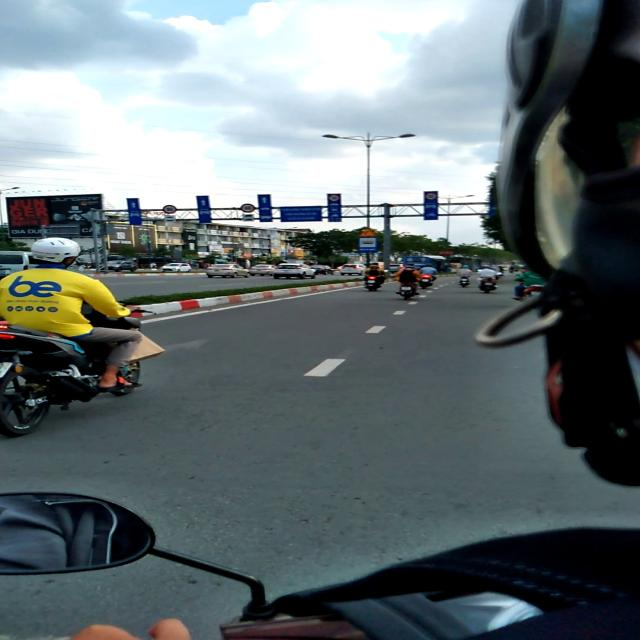Hieu lenh: (358, 237, 377, 252)
Nguy hiem: (359, 228, 377, 236)
Toc do toi da: (240, 203, 255, 213), (162, 205, 178, 214), (424, 192, 437, 200), (328, 194, 340, 202)
